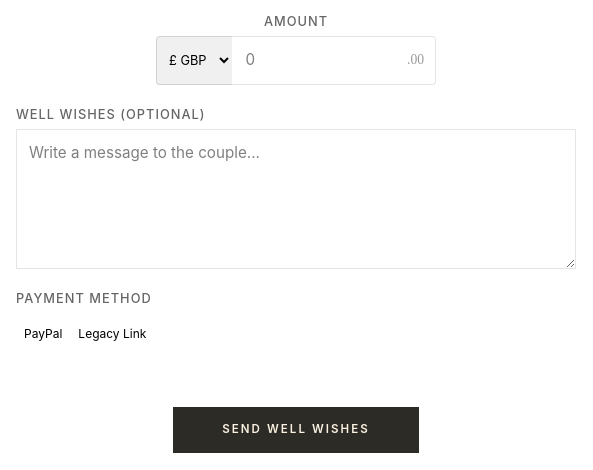
Test: GiftContributionForm › shows payment options without currencies for all currencies (backwards compat)
This screenshot has width=593, height=470.
Expected: the button "Legacy Link" is shown, [70,313,154,355]
Expected: the button "PayPal" is shown, [16,313,70,355]
Note: Switch to USD — legacy link should still show
Select "$ USD" in the dropdown. click: coordinates (194, 60)
box: [156,36,232,85]
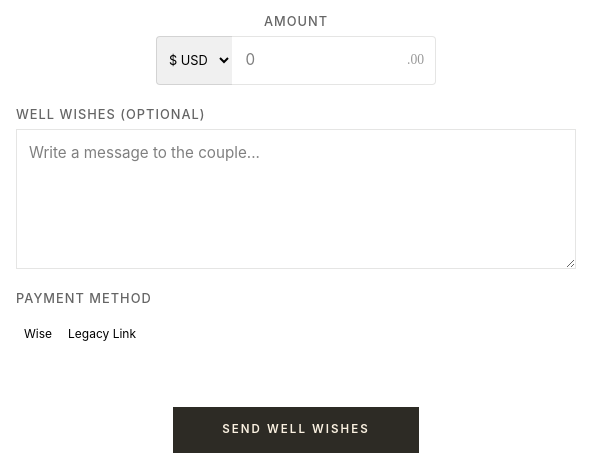
Expected: the button "Legacy Link" is shown, [60,313,144,355]
Result: the button "Wise" is shown at [16,313,60,355]
